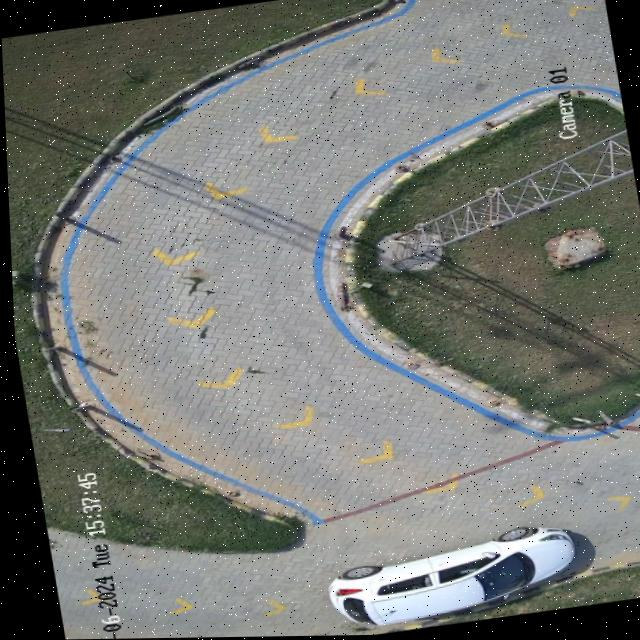car: (322, 527, 587, 625)
